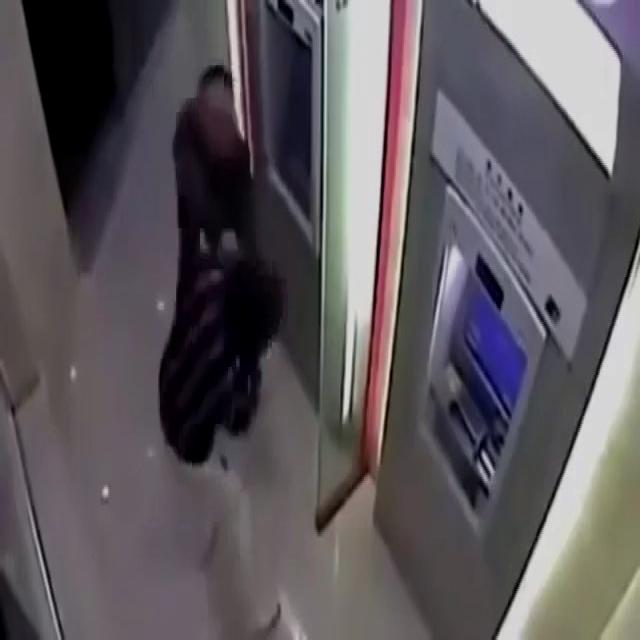fight: (156, 64, 287, 469)
